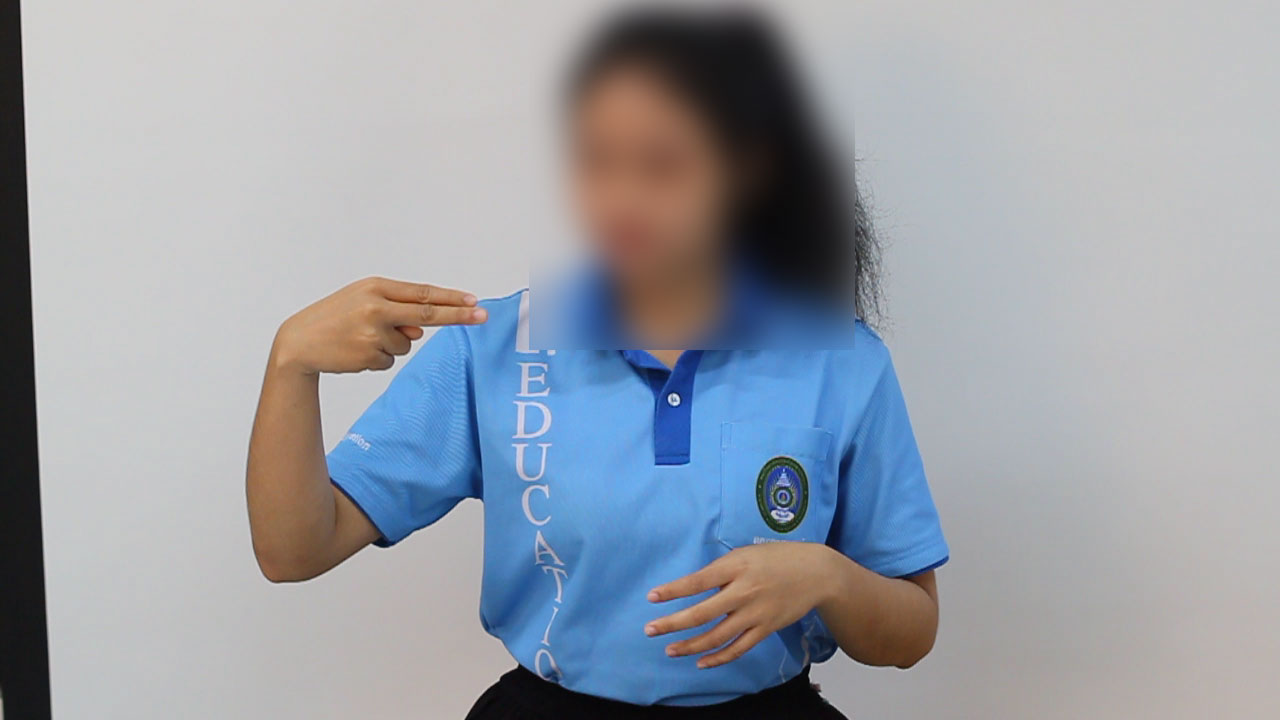hor: (244, 265, 498, 389)
